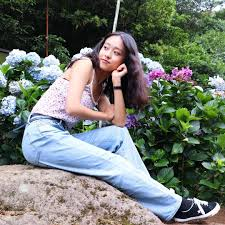people: (23, 32, 218, 220)
